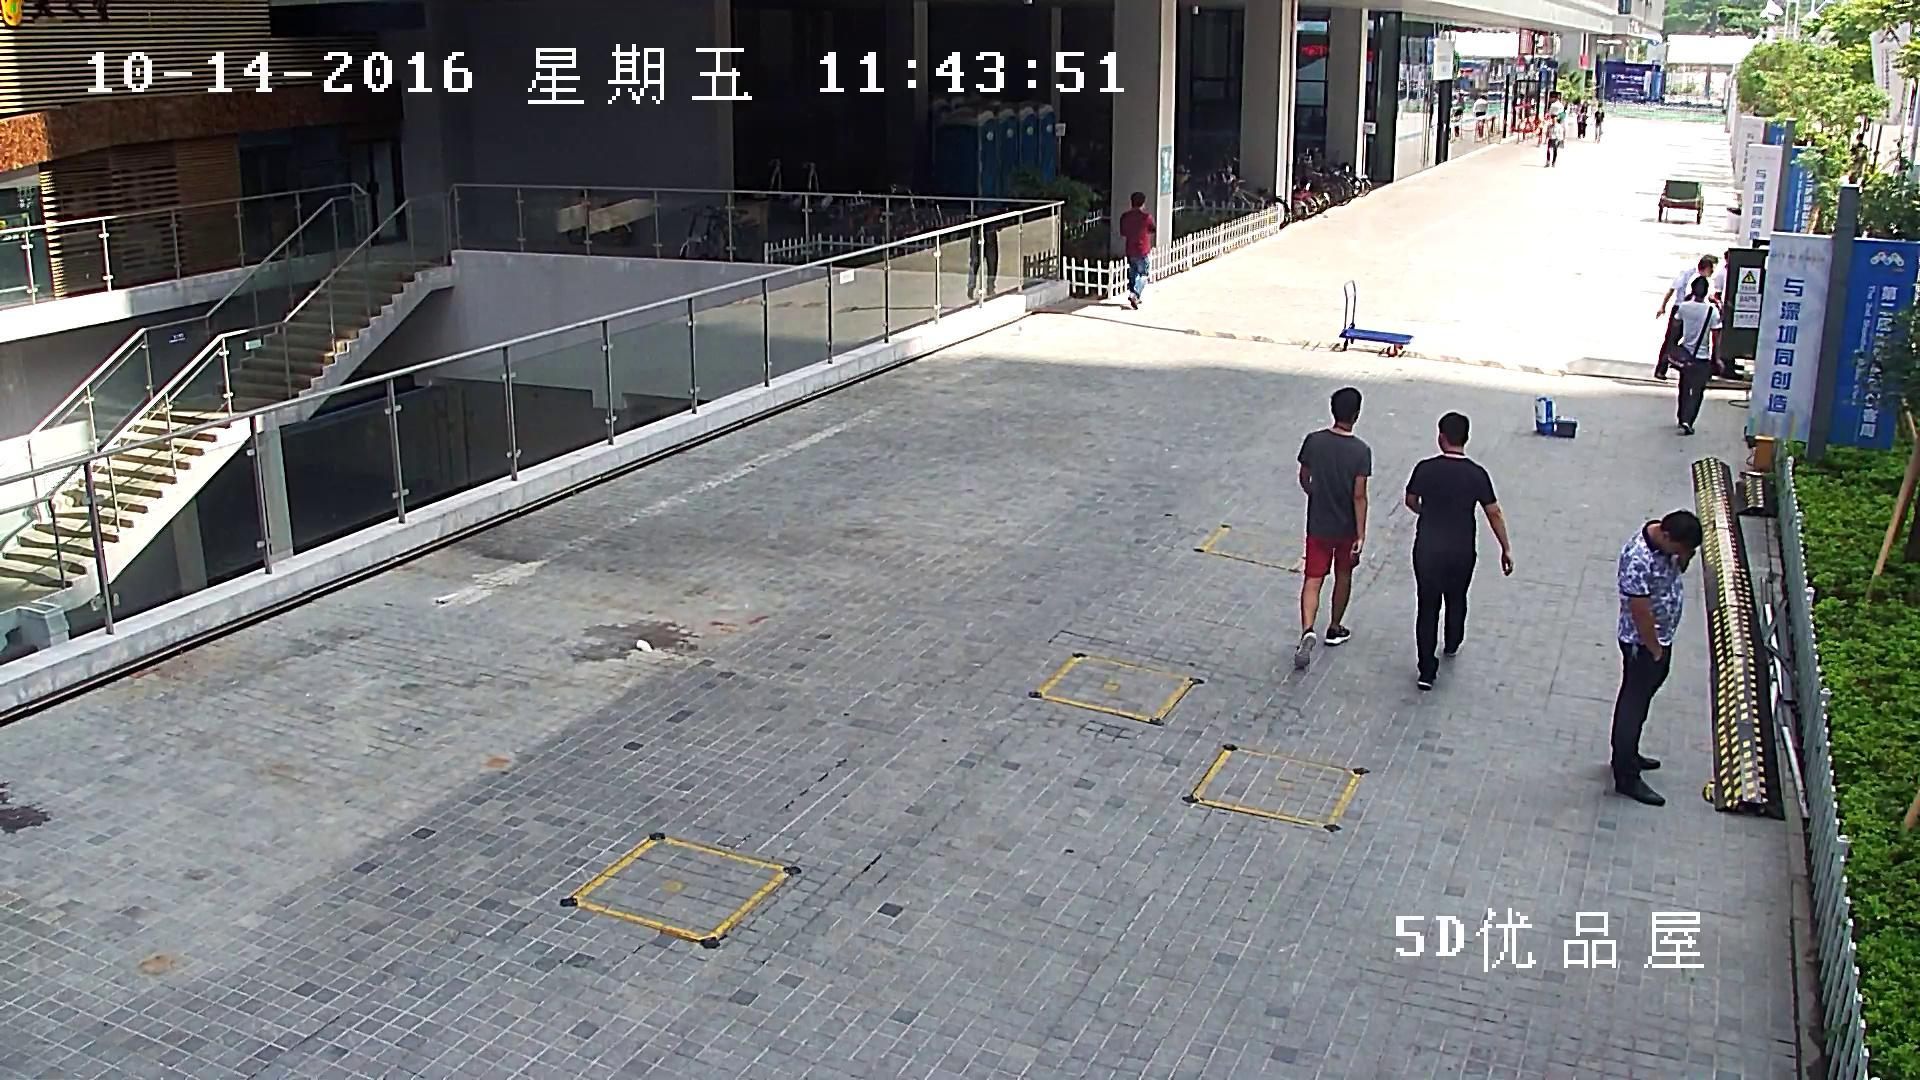person: (1404, 412, 1514, 690), (1609, 508, 1703, 807), (1292, 387, 1370, 669), (1667, 276, 1723, 435), (1653, 254, 1717, 380), (1119, 190, 1155, 309), (1708, 250, 1735, 379), (967, 224, 998, 298), (1684, 258, 1713, 300), (1543, 116, 1563, 167), (1473, 93, 1489, 137), (1534, 112, 1552, 143), (1453, 91, 1465, 137), (1593, 102, 1605, 143), (1576, 101, 1588, 137), (1547, 95, 1564, 117)
